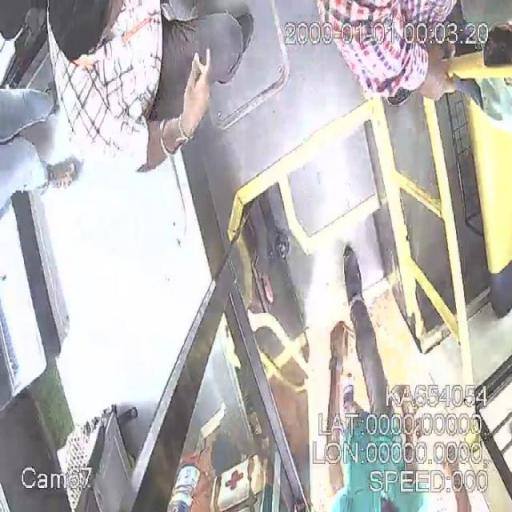persona: (313, 237, 427, 512), (44, 1, 212, 175), (316, 0, 511, 120)
